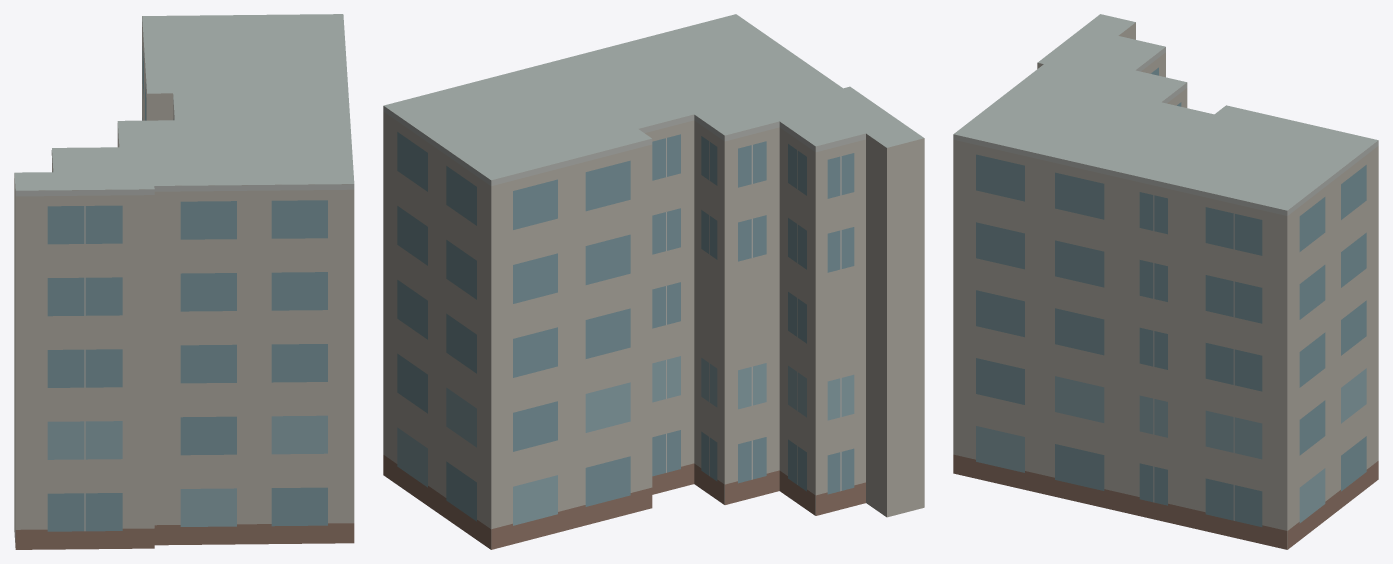
File: survey-upis-32543171.glb
3 views of the same model, side by side, from view 1: azimuth 30°, elevation 25°; view 2: azimuth 150°, elevation 25°; view 3: azimuth 270°, elevation 25° (orthographic). The views are drawn at different scales.
Parts seen in each view (by area): view 1: survey-upis-32543171.tmp; view 2: survey-upis-32543171.tmp; view 3: survey-upis-32543171.tmp.
Boxes of the visible parts, left/top/right/bottom form: survey-upis-32543171.tmp: left=14, top=14, right=354, bottom=549; survey-upis-32543171.tmp: left=383, top=14, right=924, bottom=549; survey-upis-32543171.tmp: left=953, top=14, right=1378, bottom=549.
Size of the model in its own units: 18.97 by 15.25 by 17.34.
